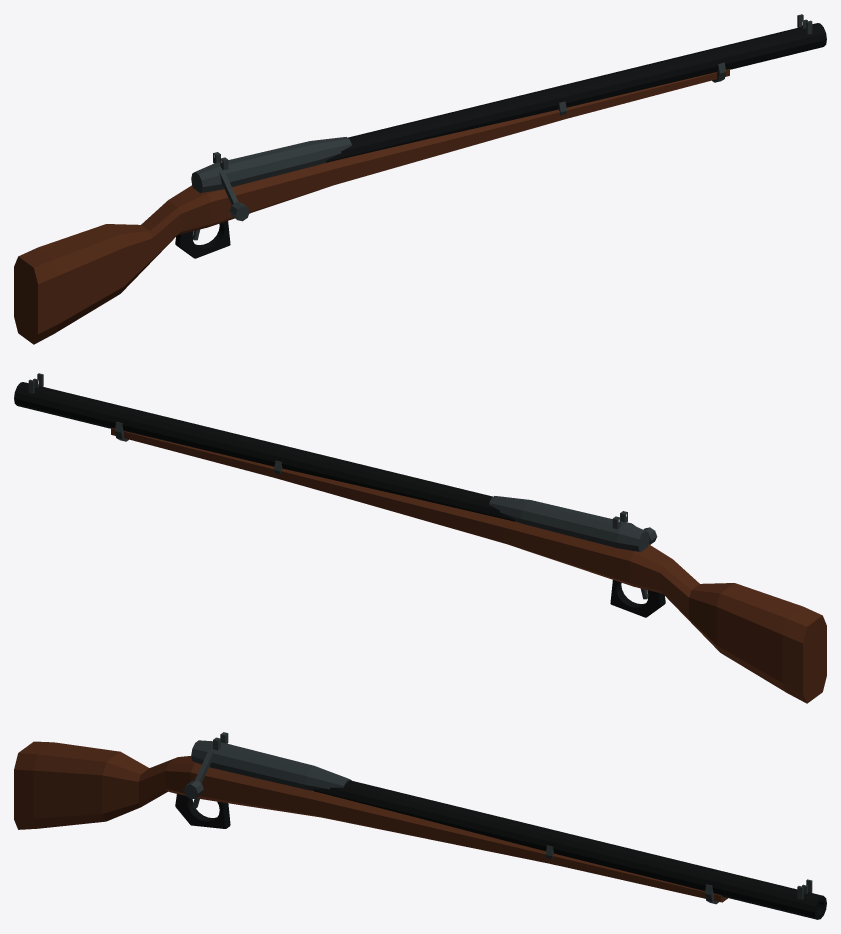
The model's file is CE_Gun_WallGun.obj.
3 renders of one model, top to bottom at view 1: azimuth 30°, elevation 25°; view 2: azimuth 150°, elevation 25°; view 3: azimuth 330°, elevation 25°, orthographic.
Parts seen in each view (by area): view 1: WallGun_unique_walnut_stock, WallGun_long_dark_bore, WallGun_rounded_bolt_action, Rounded_trigger_guard; view 2: WallGun_unique_walnut_stock, WallGun_long_dark_bore, WallGun_rounded_bolt_action, Rounded_trigger_guard; view 3: WallGun_unique_walnut_stock, WallGun_long_dark_bore, WallGun_rounded_bolt_action, Rounded_trigger_guard.
Boxes of the visible parts, x1,y1,x2,y2 form: WallGun_unique_walnut_stock: (14,69,729,344); WallGun_long_dark_bore: (325,23,826,162); WallGun_rounded_bolt_action: (191,137,351,193); Rounded_trigger_guard: (175,221,230,258); WallGun_unique_walnut_stock: (111,428,826,703); WallGun_long_dark_bore: (14,382,515,521); WallGun_rounded_bolt_action: (489,496,649,552); Rounded_trigger_guard: (610,580,665,617); WallGun_unique_walnut_stock: (14,741,727,902); WallGun_long_dark_bore: (314,780,826,919); WallGun_rounded_bolt_action: (191,740,351,790); Rounded_trigger_guard: (175,794,230,828).
Size of the model in its own units: 2 by 0.325 by 0.168.
